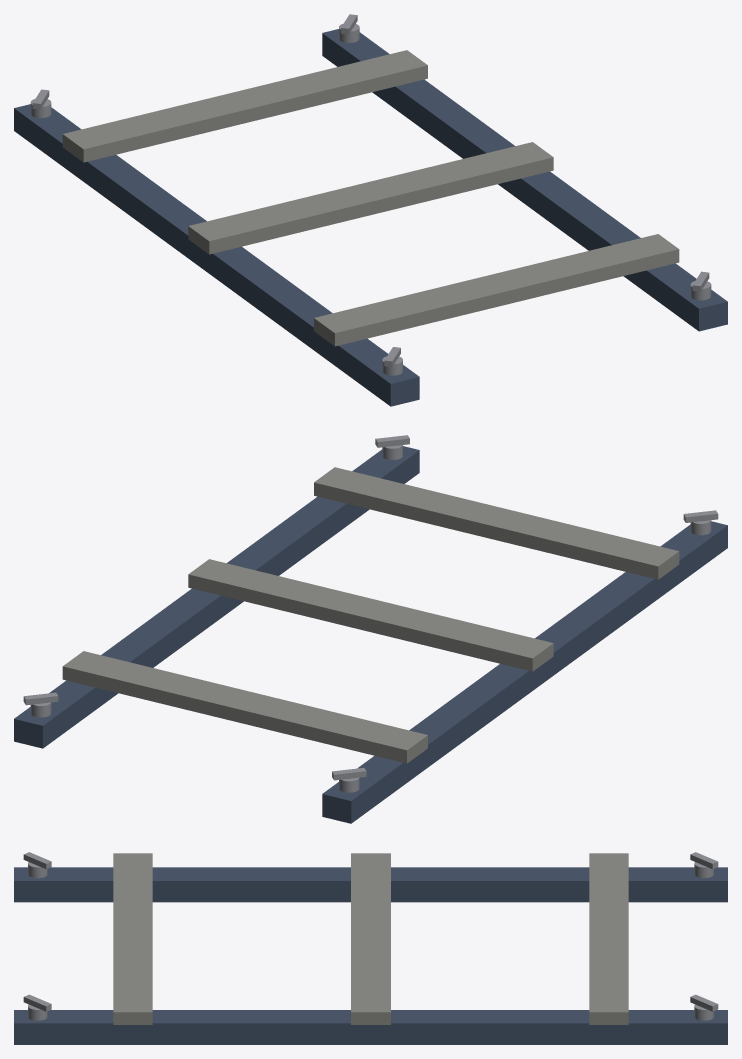
File: kz6_mounts.obj
3 renders of one model, top to bottom at view 1: azimuth 30°, elevation 25°; view 2: azimuth 150°, elevation 25°; view 3: azimuth 270°, elevation 25°, orthographic. The views are drawn at different scales.
Visible parts, largest first — view 1: kz6_mounts; view 2: kz6_mounts; view 3: kz6_mounts.
Part boxes in pixels (x1=…): kz6_mounts: x1=14, y1=14, x2=727, y2=406; kz6_mounts: x1=14, y1=435, x2=727, y2=823; kz6_mounts: x1=14, y1=852, x2=727, y2=1044.
Size of the model in its own units: 1.9 by 0.21 by 3.6.
